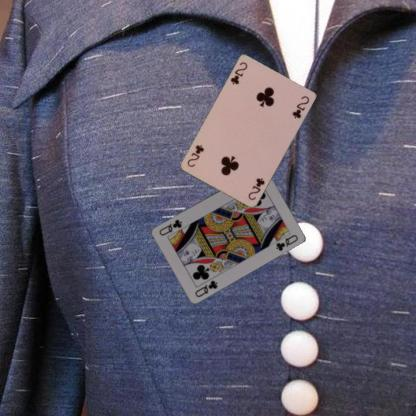2c: (246, 176, 266, 202), (228, 60, 248, 86)
Qc: (192, 277, 219, 298)
